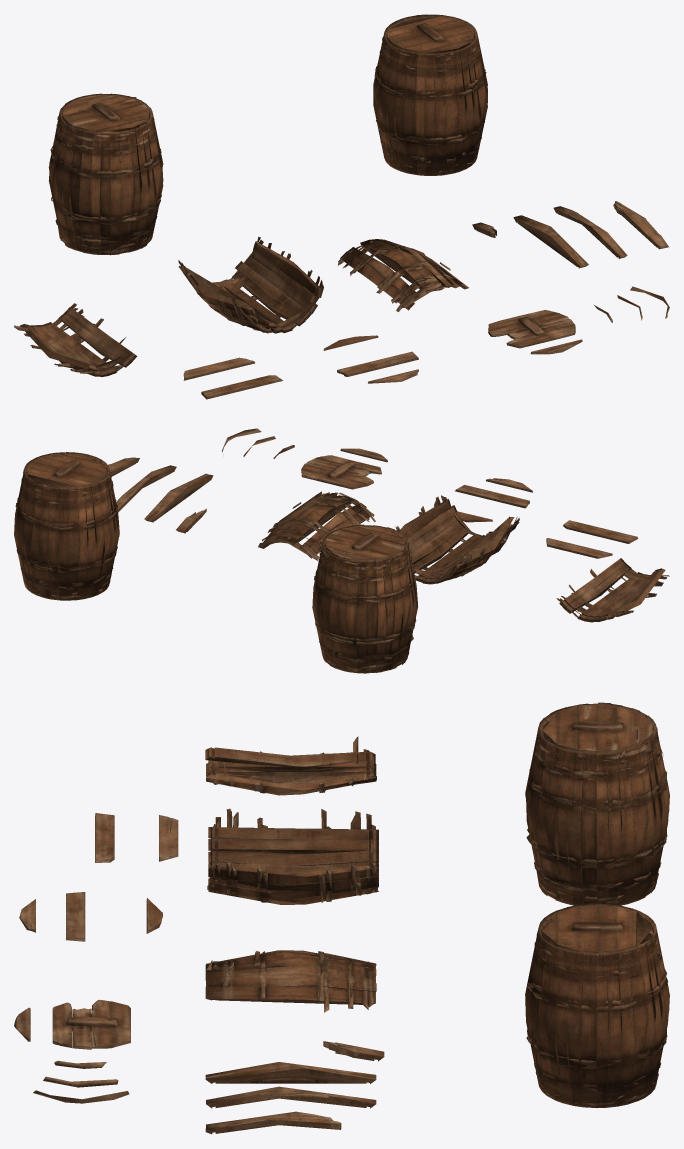
Rendered from wooden_barrels_01_web.glb.
The picture shows the model from 3 angles, top to bottom: view 1: azimuth 30°, elevation 25°; view 2: azimuth 150°, elevation 25°; view 3: azimuth 270°, elevation 25°; orthographic projection. The views are drawn at different scales.
Visible parts, largest first — view 1: wooden_barrels_01_barrel01, wooden_barrels_01_barrel02, wooden_barrels_01_piece01, wooden_barrels_01_piece03, wooden_barrels_01_piece02, wooden_barrels_01_piece08, wooden_barrels_01_piece04, wooden_barrels_01_piece05, wooden_barrels_01_piece06, wooden_barrels_01_piece11, wooden_barrels_01_piece14, wooden_barrels_01_piece13; view 2: wooden_barrels_01_barrel01, wooden_barrels_01_barrel02, wooden_barrels_01_piece01, wooden_barrels_01_piece03, wooden_barrels_01_piece02, wooden_barrels_01_piece08, wooden_barrels_01_piece04, wooden_barrels_01_piece14, wooden_barrels_01_piece05, wooden_barrels_01_piece11, wooden_barrels_01_piece13; view 3: wooden_barrels_01_barrel01, wooden_barrels_01_barrel02, wooden_barrels_01_piece01, wooden_barrels_01_piece03, wooden_barrels_01_piece02, wooden_barrels_01_piece08, wooden_barrels_01_piece04, wooden_barrels_01_piece05, wooden_barrels_01_piece06, wooden_barrels_01_piece11, wooden_barrels_01_piece14, wooden_barrels_01_piece13 (+1 smaller).
Part boxes in pixels (bbox=[...]): wooden_barrels_01_barrel01: bbox=[373, 14, 487, 175]; wooden_barrels_01_barrel02: bbox=[48, 93, 163, 255]; wooden_barrels_01_piece01: bbox=[178, 236, 323, 333]; wooden_barrels_01_piece03: bbox=[338, 239, 468, 311]; wooden_barrels_01_piece02: bbox=[14, 303, 137, 376]; wooden_barrels_01_piece08: bbox=[488, 310, 575, 348]; wooden_barrels_01_piece04: bbox=[513, 215, 588, 268]; wooden_barrels_01_piece05: bbox=[553, 206, 627, 258]; wooden_barrels_01_piece06: bbox=[613, 201, 668, 249]; wooden_barrels_01_piece11: bbox=[337, 351, 418, 376]; wooden_barrels_01_piece14: bbox=[201, 375, 282, 399]; wooden_barrels_01_piece13: bbox=[183, 357, 254, 380]; wooden_barrels_01_barrel01: bbox=[14, 452, 119, 600]; wooden_barrels_01_barrel02: bbox=[312, 524, 418, 673]; wooden_barrels_01_piece01: bbox=[395, 495, 519, 584]; wooden_barrels_01_piece03: bbox=[258, 491, 375, 560]; wooden_barrels_01_piece02: bbox=[556, 558, 669, 622]; wooden_barrels_01_piece08: bbox=[301, 455, 381, 489]; wooden_barrels_01_piece04: bbox=[144, 473, 213, 522]; wooden_barrels_01_piece14: bbox=[563, 520, 637, 543]; wooden_barrels_01_piece05: bbox=[116, 465, 176, 512]; wooden_barrels_01_piece11: bbox=[455, 485, 529, 508]; wooden_barrels_01_piece13: bbox=[546, 538, 612, 558]; wooden_barrels_01_barrel01: bbox=[525, 903, 669, 1107]; wooden_barrels_01_barrel02: bbox=[525, 702, 669, 905]; wooden_barrels_01_piece01: bbox=[207, 808, 378, 904]; wooden_barrels_01_piece03: bbox=[205, 950, 376, 1012]; wooden_barrels_01_piece02: bbox=[205, 736, 376, 795]; wooden_barrels_01_piece08: bbox=[52, 999, 130, 1049]; wooden_barrels_01_piece04: bbox=[205, 1062, 376, 1083]; wooden_barrels_01_piece05: bbox=[206, 1086, 376, 1108]; wooden_barrels_01_piece06: bbox=[205, 1111, 341, 1134]; wooden_barrels_01_piece11: bbox=[66, 892, 85, 941]; wooden_barrels_01_piece14: bbox=[95, 813, 114, 862]; wooden_barrels_01_piece13: bbox=[159, 815, 178, 861].
Bounding box in the file's own units: 4.44 × 0.9322 × 3.34.
3 materials, 3 textured.
